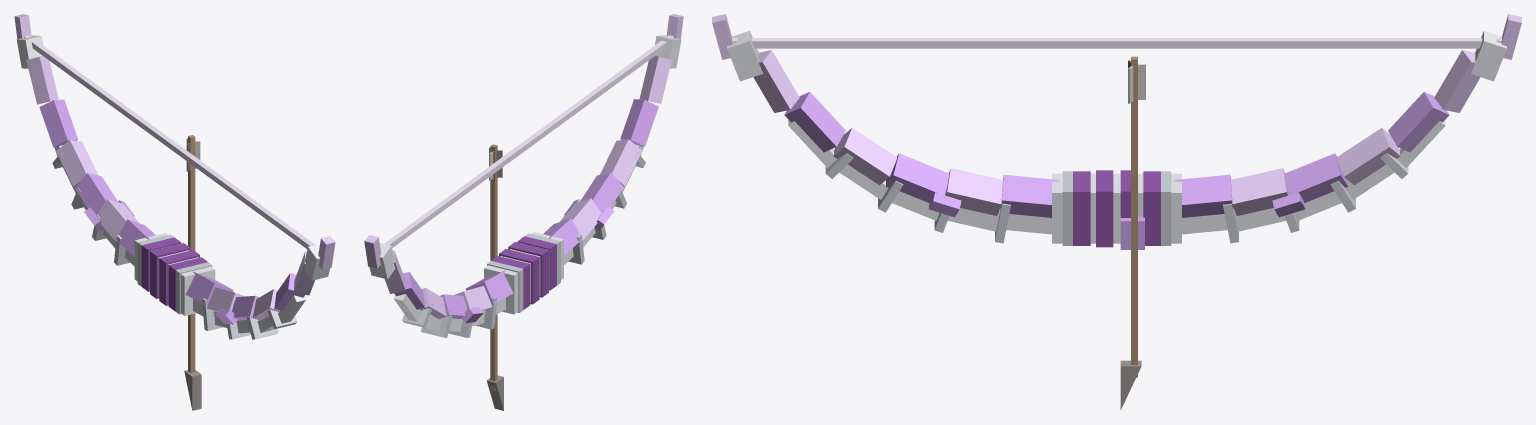
File: art_crystal_greatbow.fbx
The picture shows the model from 3 angles, left to right: view 1: azimuth 30°, elevation 25°; view 2: azimuth 150°, elevation 25°; view 3: azimuth 270°, elevation 25°; orthographic projection. The views are drawn at different scales.
Visible parts, largest first — view 1: BowString, ArrowShaft, Handle, AmethystU_5, AmethystU_4, AmethystU_6, AmethystU_3, AmethystU_2, AmethystL_1, VelvetWrap_2, VelvetWrap_3, AmethystU_1 (+17 smaller); view 2: BowString, ArrowShaft, AmethystL_5, Handle, AmethystL_4, AmethystL_6, AmethystL_3, AmethystL_2, AmethystU_1, VelvetWrap_2, VelvetWrap_3, AmethystL_1 (+17 smaller); view 3: BowString, Handle, ArrowShaft, AmethystL_2, AmethystU_2, AmethystL_1, AmethystU_1, AmethystL_4, AmethystU_4, AmethystL_5, AmethystU_5, AmethystL_3 (+14 smaller).
Part boxes in pixels (box(x1,y1,x2,y2)): BowString: box(24, 35, 315, 249); ArrowShaft: box(188, 135, 195, 372); Handle: box(134, 233, 215, 315); AmethystU_5: box(39, 99, 77, 147); AmethystU_4: box(56, 140, 98, 186); AmethystU_6: box(26, 56, 58, 104); AmethystU_3: box(75, 173, 117, 214); AmethystU_2: box(97, 199, 138, 241); AmethystL_1: box(185, 271, 233, 305); VelvetWrap_2: box(150, 243, 190, 298); VelvetWrap_3: box(159, 250, 199, 305); AmethystU_1: box(116, 219, 155, 256); BowString: box(384, 35, 673, 247); ArrowShaft: box(490, 144, 497, 390); AmethystL_5: box(620, 99, 658, 146); Handle: box(484, 232, 563, 314); AmethystL_4: box(600, 139, 642, 186); AmethystL_6: box(639, 56, 671, 103); AmethystL_3: box(580, 172, 623, 213); AmethystL_2: box(560, 198, 601, 240); AmethystU_1: box(466, 270, 512, 304); VelvetWrap_2: box(499, 249, 539, 304); VelvetWrap_3: box(508, 242, 548, 297); AmethystL_1: box(543, 218, 582, 255); BowString: box(732, 38, 1501, 48); Handle: box(1052, 173, 1181, 243); ArrowShaft: box(1131, 56, 1137, 377); AmethystL_2: box(945, 168, 1002, 215); AmethystU_2: box(1231, 168, 1288, 215); AmethystL_1: box(1000, 174, 1059, 217); AmethystU_1: box(1174, 174, 1233, 217); AmethystL_4: box(833, 128, 896, 185); AmethystU_4: box(1337, 128, 1400, 185); AmethystL_5: box(784, 92, 845, 152); AmethystU_5: box(1388, 92, 1449, 152); AmethystL_3: box(885, 153, 949, 202).
Size of the model in its own units: 0.4317 by 2.37 by 4.62.
